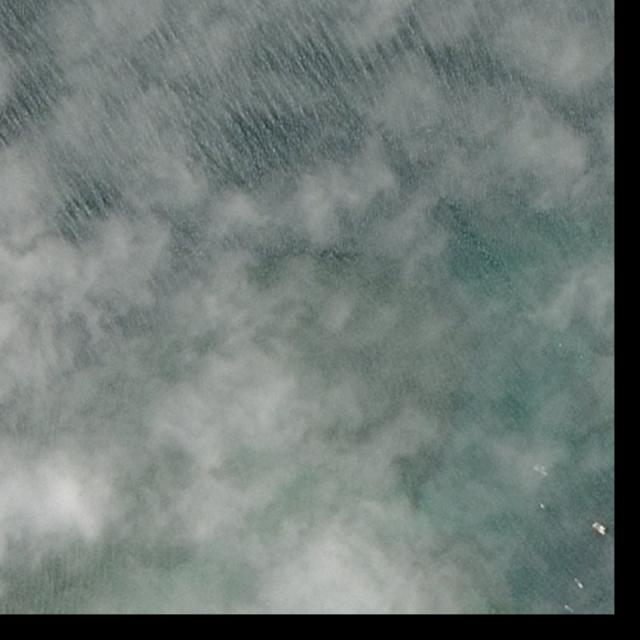ship: (591, 523, 607, 537), (535, 467, 550, 478), (594, 519, 606, 531), (574, 577, 585, 590), (564, 604, 575, 614), (540, 504, 547, 511)
